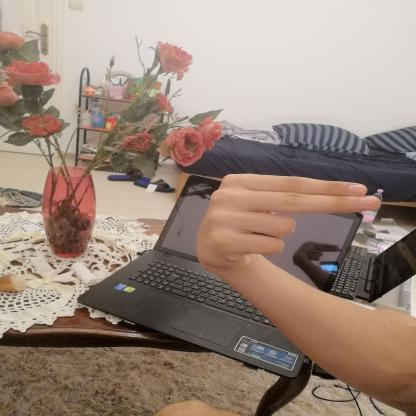AYN: (178, 162, 394, 276)
